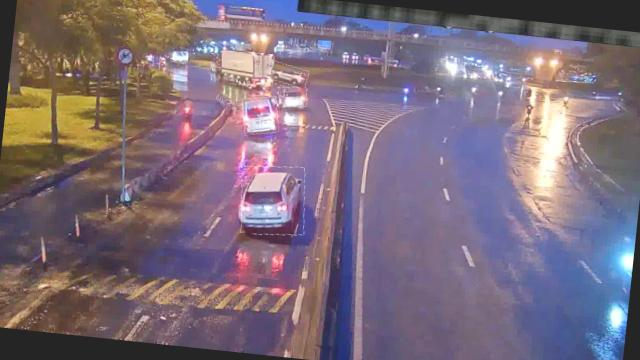Bus: (240, 94, 281, 137)
Car: (236, 162, 308, 238), (266, 62, 308, 86), (275, 84, 308, 108)
Truck: (210, 49, 276, 88)
